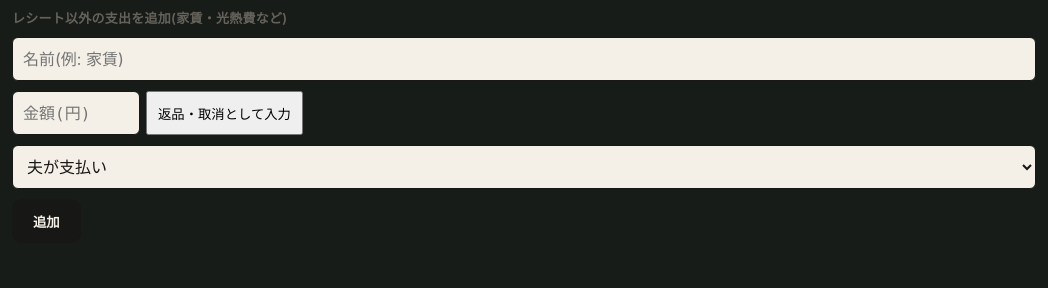
Scenario: ManualEntryForm › 名前が空欄だとrole=alertでエラー表示し、名前欄だけにaria-invalid/aria-describedbyが付く(Codexレビュー指摘: エラー対象欄の明示)
In the field named "追加する金額(円)": (76, 113) [12, 91, 140, 135], type "1000"
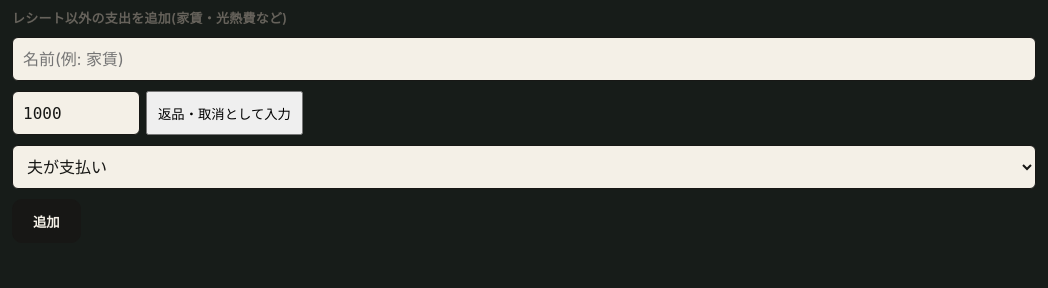
Click the button "追加": (46, 221) [12, 199, 81, 243]
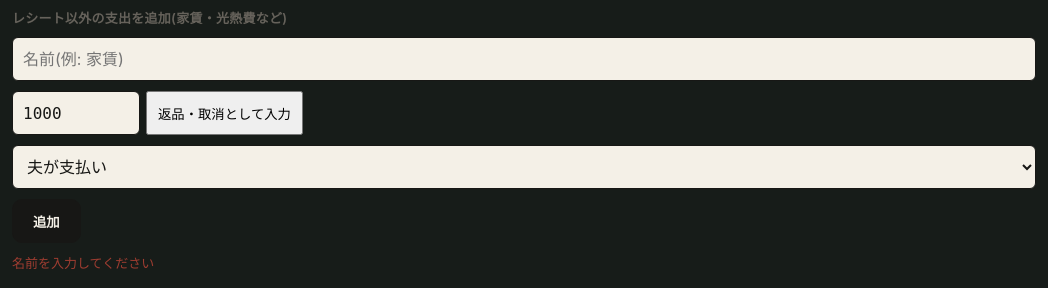
Expected: the message reads "名前を入力してください", [12, 255, 154, 271]
